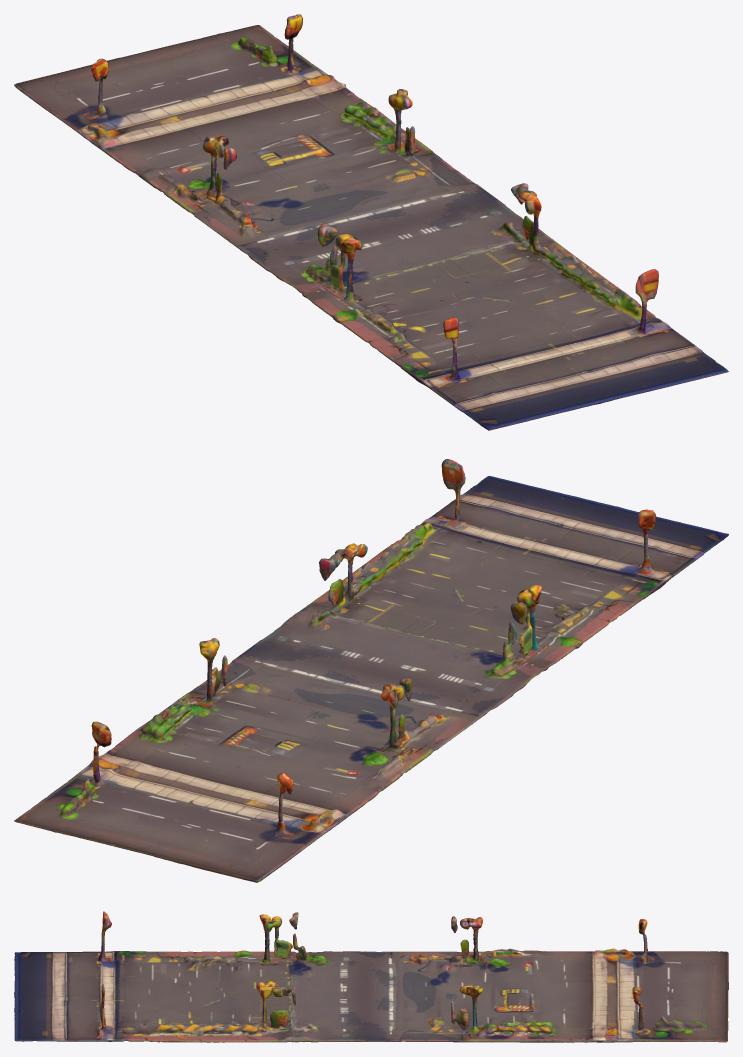
Rendered from track.glb.
3 renders of one model, top to bottom at view 1: azimuth 30°, elevation 25°; view 2: azimuth 150°, elevation 25°; view 3: azimuth 270°, elevation 25°, orthographic. The views are drawn at different scales.
Bounding box in the file's own units: 0.6038 × 0.154 × 2.
Materials: 1 (1 with a texture image).
